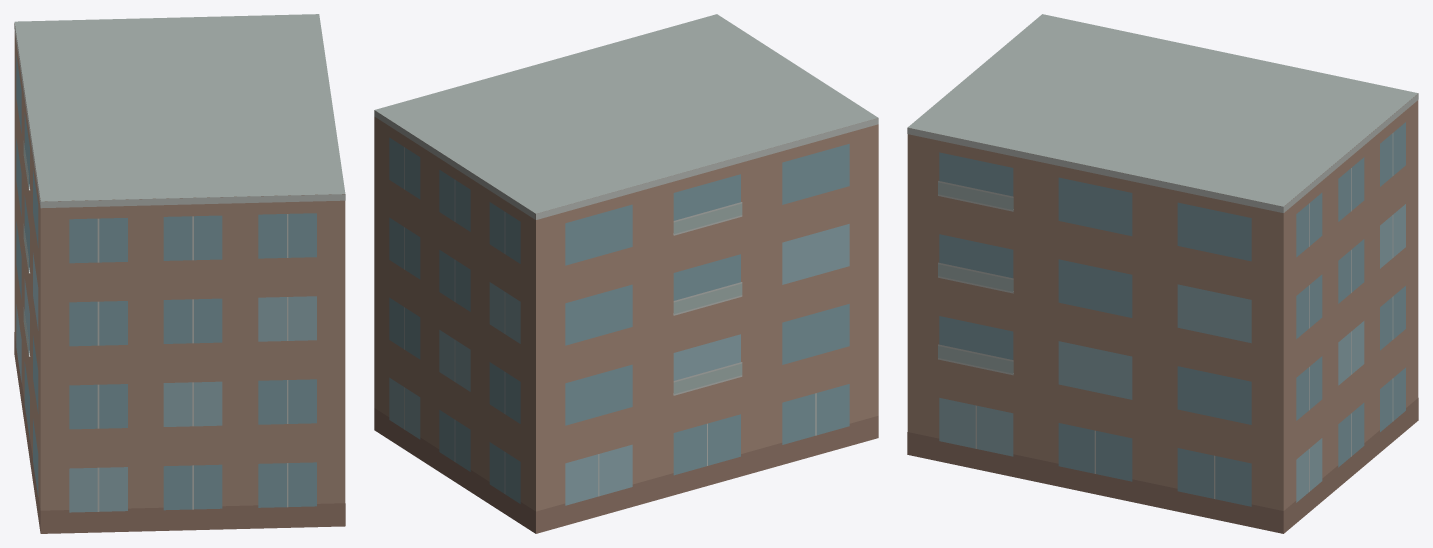
File: survey-upis-32913198.glb
The picture shows the model from 3 angles, left to right: view 1: azimuth 30°, elevation 25°; view 2: azimuth 150°, elevation 25°; view 3: azimuth 270°, elevation 25°; orthographic projection. The views are drawn at different scales.
Parts seen in each view (by area): view 1: survey-upis-32913198.tmp; view 2: survey-upis-32913198.tmp; view 3: survey-upis-32913198.tmp.
Part boxes in pixels (bbox=[...]): survey-upis-32913198.tmp: bbox=[14, 14, 345, 533]; survey-upis-32913198.tmp: bbox=[374, 14, 878, 533]; survey-upis-32913198.tmp: bbox=[907, 14, 1418, 533].
Size of the model in its own units: 15.42 by 12.2 by 17.28.
